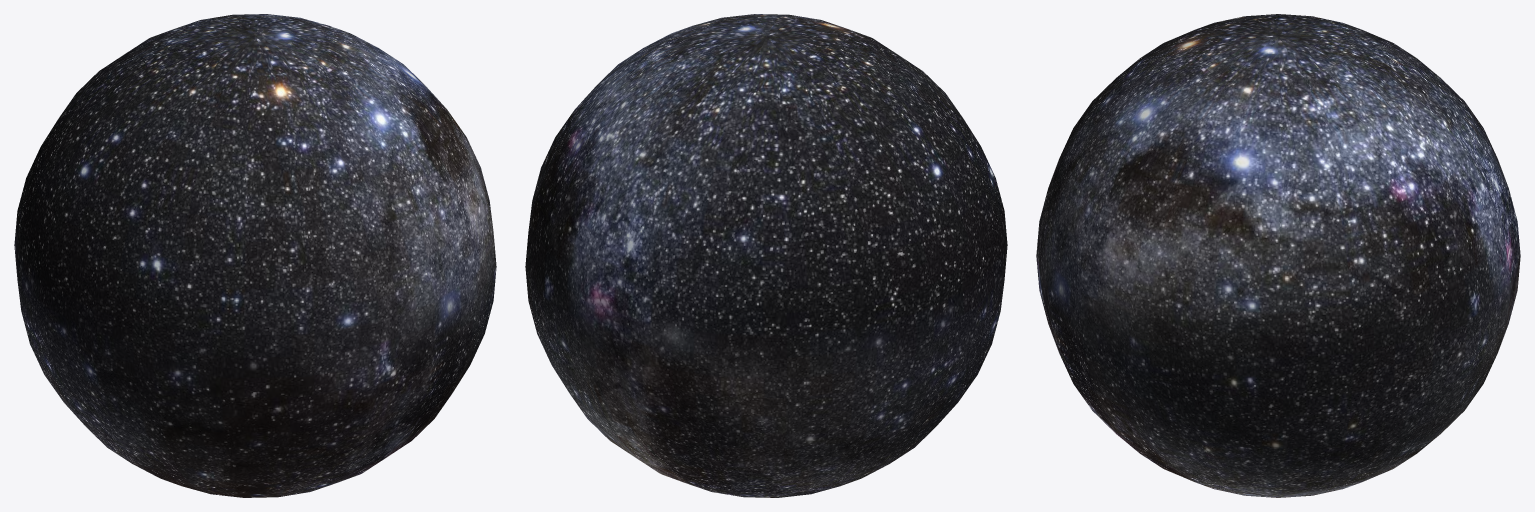
Rendered from invaders.fbx.
The picture shows the model from 3 angles, left to right: view 1: azimuth 30°, elevation 25°; view 2: azimuth 150°, elevation 25°; view 3: azimuth 270°, elevation 25°; orthographic projection.
Parts seen in each view (by area): view 1: space; view 2: space; view 3: space.
Boxes of the visible parts, x1=… form: space: x1=14, y1=14, x2=496, y2=497; space: x1=525, y1=14, x2=1007, y2=497; space: x1=1036, y1=14, x2=1520, y2=497.
Size of the model in its own units: 20000 by 20000 by 20000.
4 materials, 3 textured.
